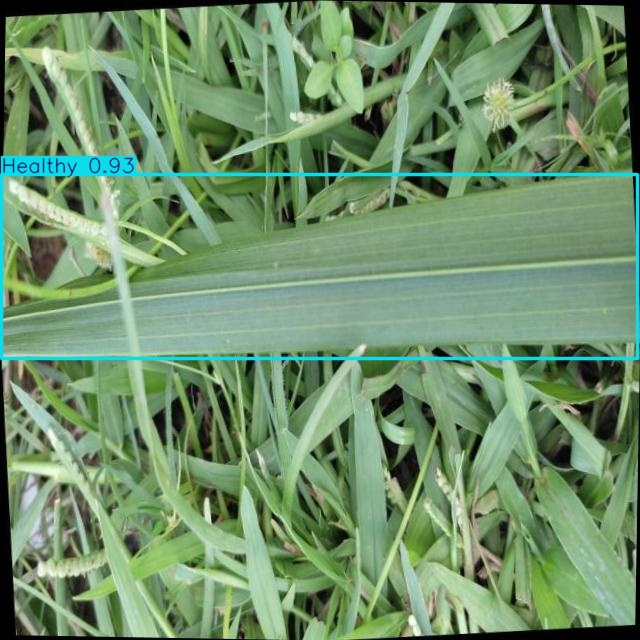Healthy: (2, 175, 638, 358)
